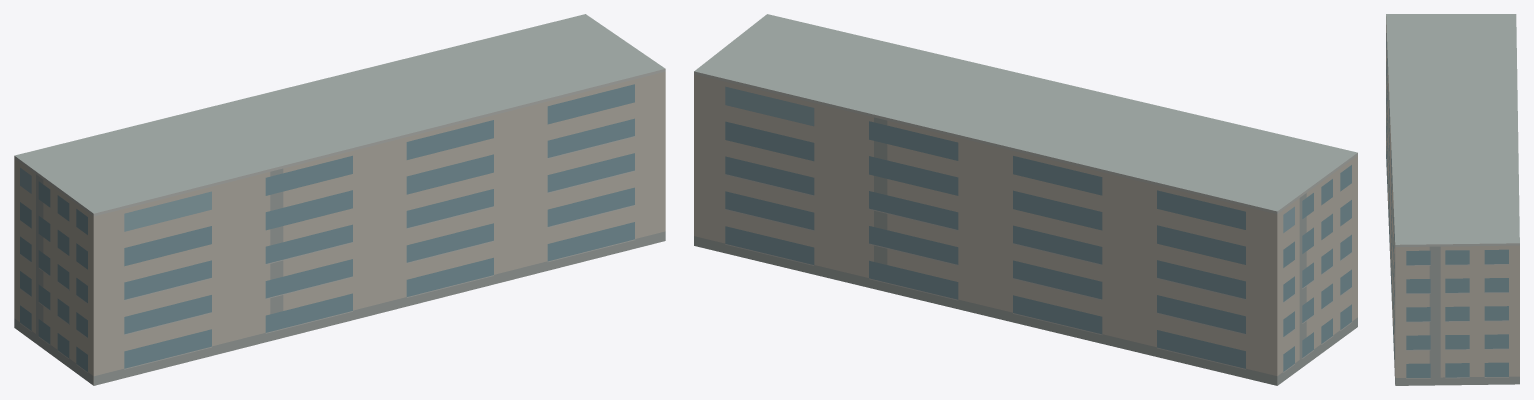
Rendered from residential-b8be00a0-78a4-4cdf-b5d4-6490c832eaea.glb.
3 renders of one model, left to right at view 1: azimuth 30°, elevation 25°; view 2: azimuth 150°, elevation 25°; view 3: azimuth 270°, elevation 25°, orthographic. The views are drawn at different scales.
Visible parts, largest first — view 1: residential-b8be00a0-78a4-4cdf-b5d4-6490c832eaea.tmp; view 2: residential-b8be00a0-78a4-4cdf-b5d4-6490c832eaea.tmp; view 3: residential-b8be00a0-78a4-4cdf-b5d4-6490c832eaea.tmp.
Part boxes in pixels (x1=…): residential-b8be00a0-78a4-4cdf-b5d4-6490c832eaea.tmp: x1=14, y1=14, x2=665, y2=385; residential-b8be00a0-78a4-4cdf-b5d4-6490c832eaea.tmp: x1=694, y1=14, x2=1357, y2=385; residential-b8be00a0-78a4-4cdf-b5d4-6490c832eaea.tmp: x1=1386, y1=14, x2=1519, y2=385.
Bounding box in the file's own units: 53.54 × 15.25 × 13.13.
